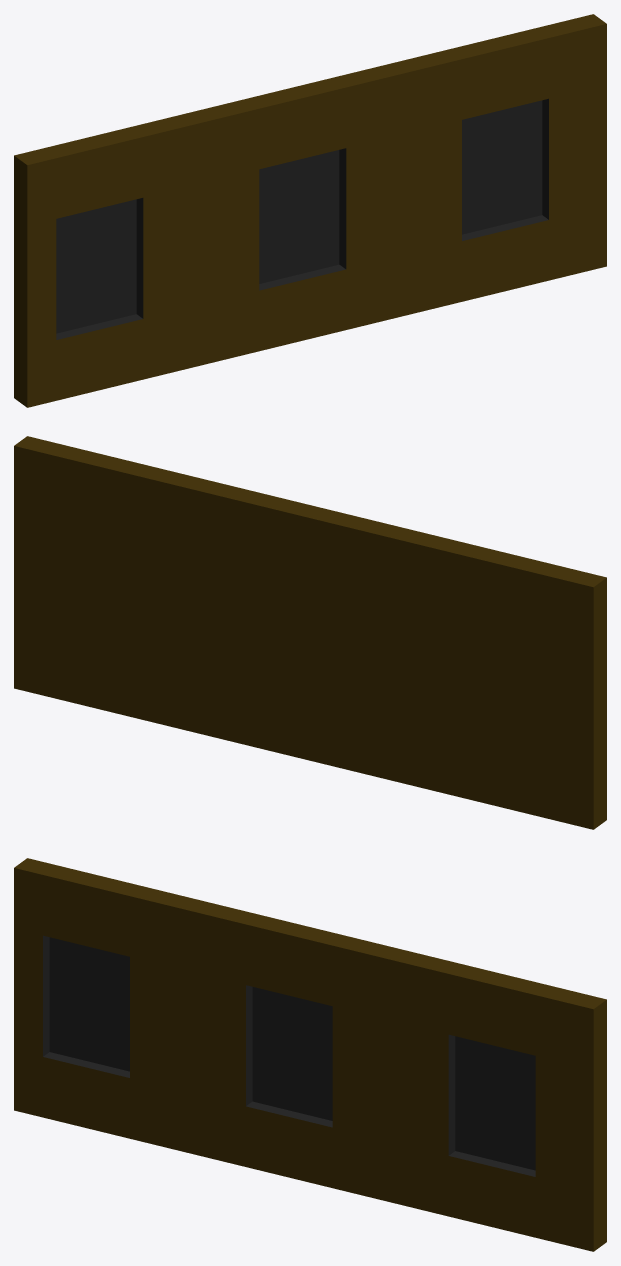
The model's file is WindowWall.fbx.
3 renders of one model, top to bottom at view 1: azimuth 30°, elevation 25°; view 2: azimuth 150°, elevation 25°; view 3: azimuth 330°, elevation 25°, orthographic.
Visible parts, largest first — view 1: WindowWall; view 2: WindowWall; view 3: WindowWall.
Part boxes in pixels (x1,y1,x2,y2): WindowWall: (14, 14, 606, 407); WindowWall: (14, 436, 606, 829); WindowWall: (14, 858, 606, 1251).
Size of the model in its own units: 50 by 20 by 2.
